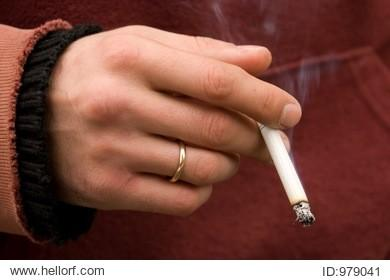Cigarette: (256, 119, 316, 226)
